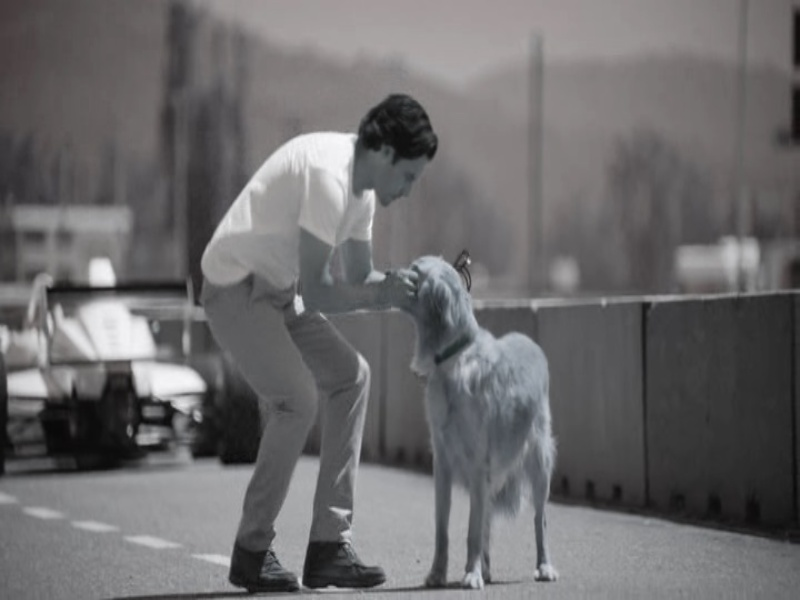TsisyArotava: (367, 96, 446, 224)
